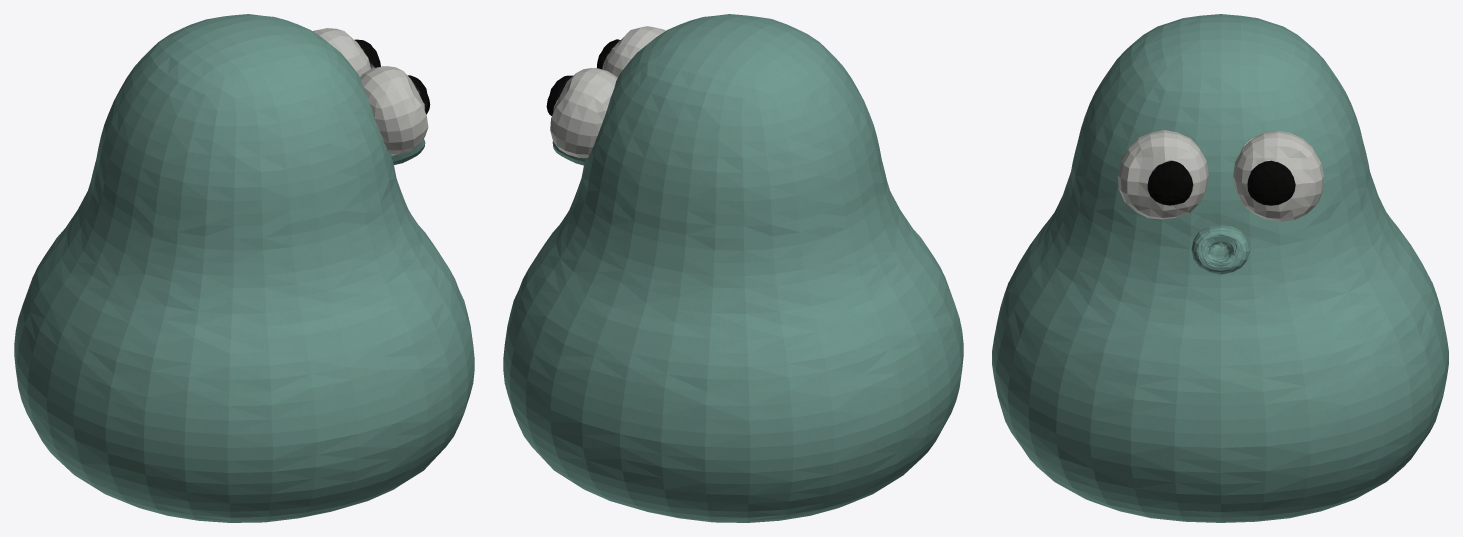
File: dev.glb
3 renders of one model, left to right at view 1: azimuth 30°, elevation 25°; view 2: azimuth 150°, elevation 25°; view 3: azimuth 270°, elevation 25°, orthographic.
Parts seen in each view (by area): view 1: tripo_node_f4c60690-4e60-4018-9f5f-c24b608ac12f; view 2: tripo_node_f4c60690-4e60-4018-9f5f-c24b608ac12f; view 3: tripo_node_f4c60690-4e60-4018-9f5f-c24b608ac12f.
Boxes of the visible parts, bbox=[...] form: tripo_node_f4c60690-4e60-4018-9f5f-c24b608ac12f: bbox=[14, 14, 474, 522]; tripo_node_f4c60690-4e60-4018-9f5f-c24b608ac12f: bbox=[503, 14, 963, 522]; tripo_node_f4c60690-4e60-4018-9f5f-c24b608ac12f: bbox=[992, 14, 1448, 522].
Bounding box in the file's own units: 0.9452 × 1 × 0.9452.
1 material, 1 textured.
